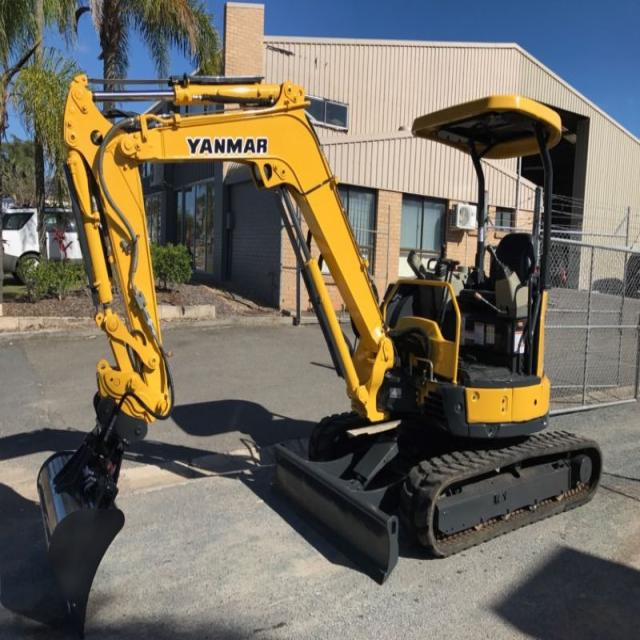excavator: (11, 30, 612, 630)
